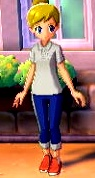woman_no_egg: (12, 1, 90, 176)
